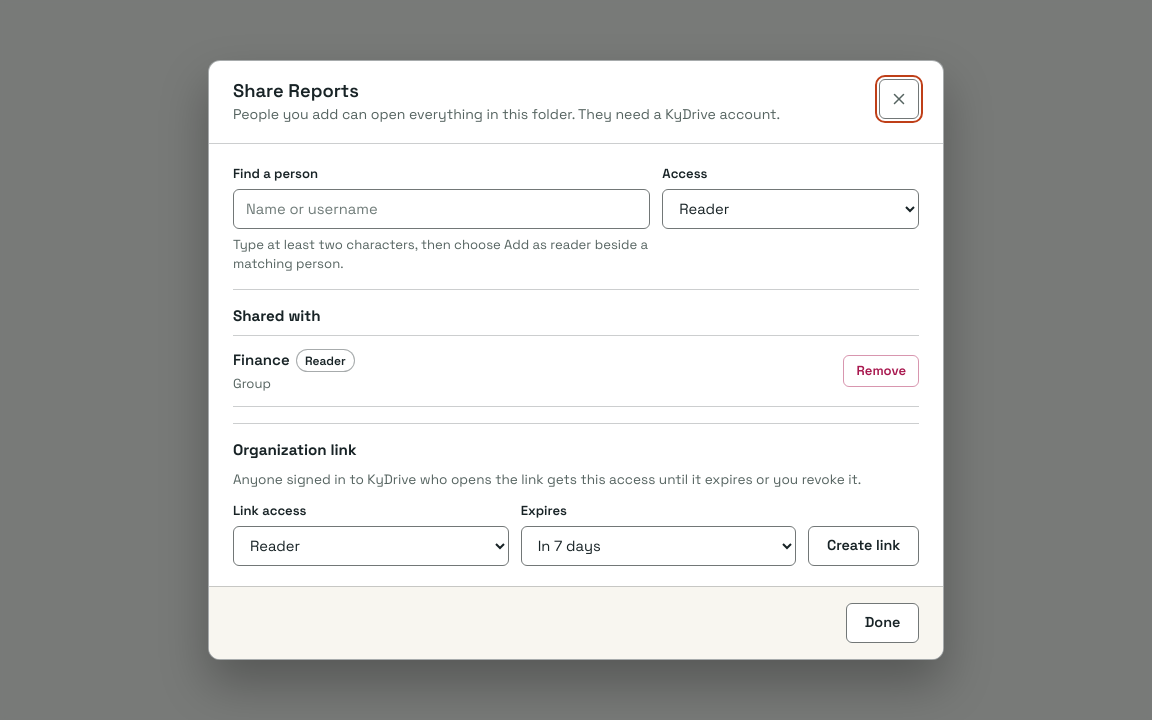
Test case: ShareDialog › finds a person, shares at the chosen role and removes a share
This screenshot has width=1152, height=720.
Select "Editor" in the dropdown labelled "Access" at [791, 209], box x1=662 y1=189 x2=919 y2=229
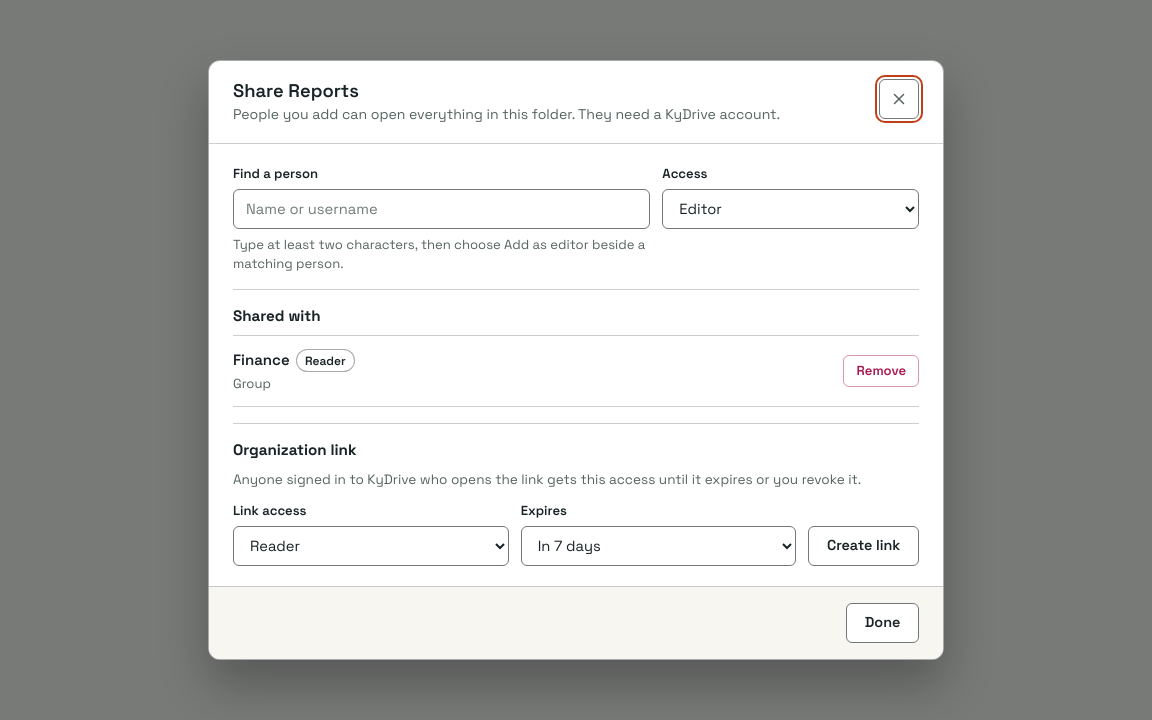
Type "an" into the search field labelled "Find a person" at [442, 209], box x1=233 y1=189 x2=650 y2=229
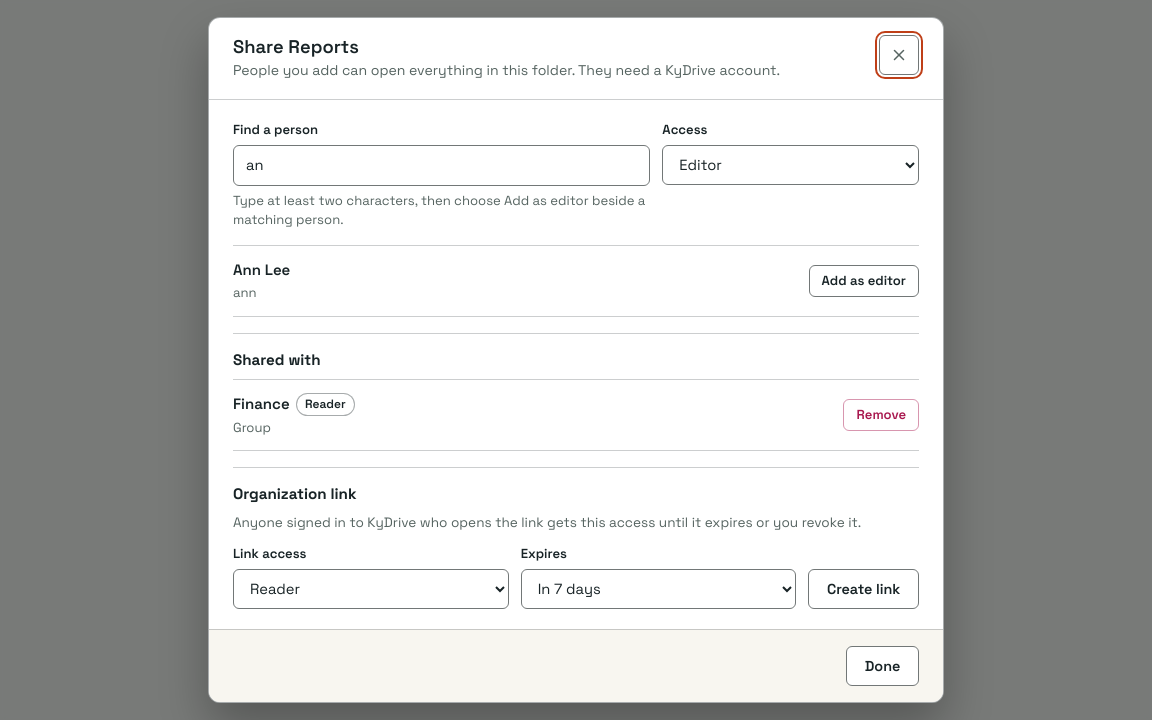
Click the button "Add as editor" at [864, 281], box x1=808 y1=265 x2=919 y2=297
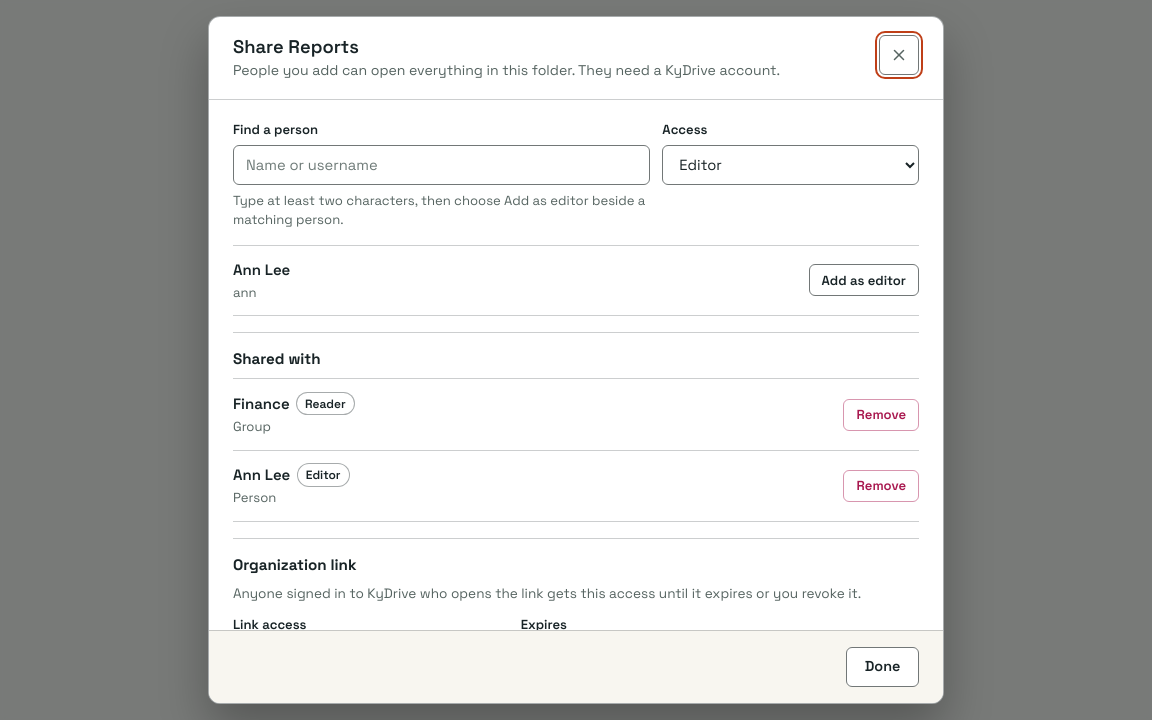
Click the button "Remove" in the row of "Finance" at [881, 414], box x1=844 y1=398 x2=919 y2=430
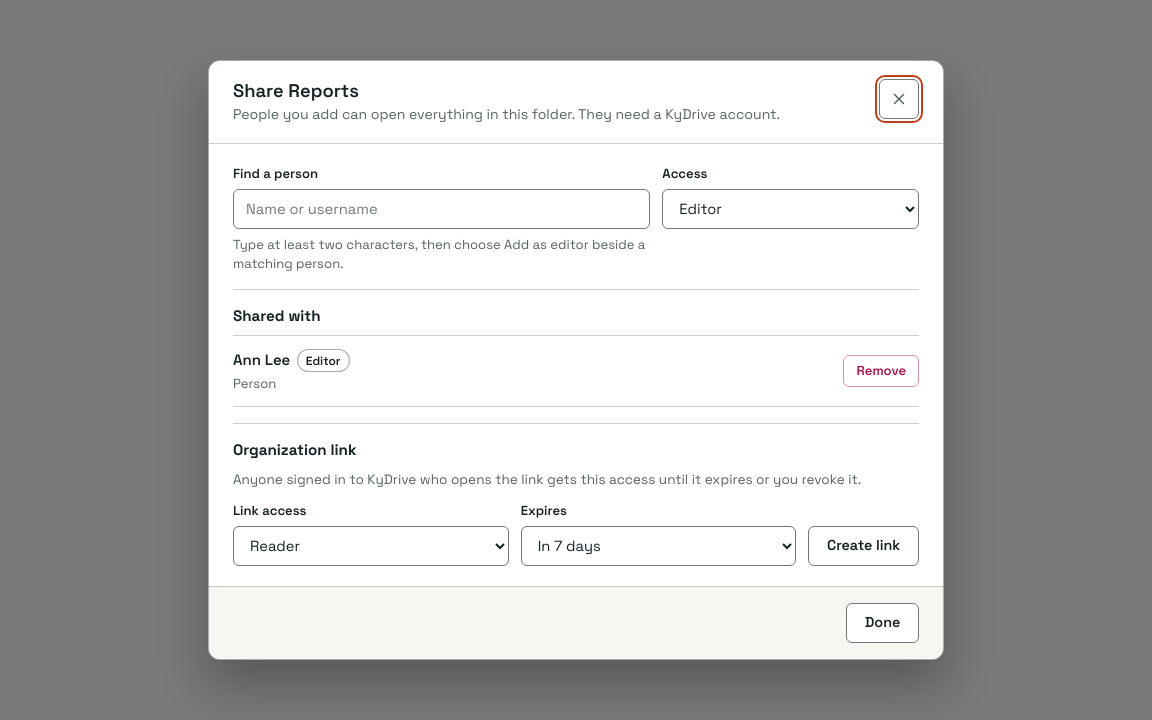
Expected: the text "Finance" is gone
